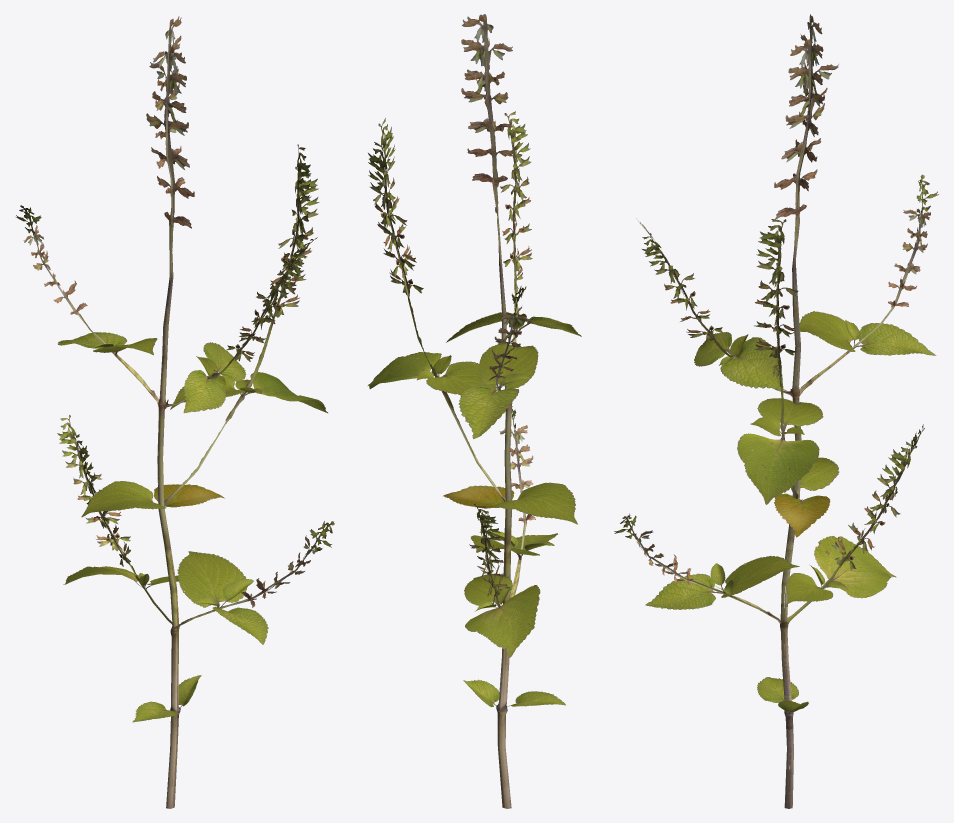
Rendered from shrub_03_03.glb.
3 renders of one model, left to right at view 1: azimuth 30°, elevation 25°; view 2: azimuth 150°, elevation 25°; view 3: azimuth 270°, elevation 25°, orthographic. The views are drawn at different scales.
Parts seen in each view (by area): view 1: shrub_03; view 2: shrub_03; view 3: shrub_03.
Boxes of the visible parts, x1,y1,x2,y2 form: shrub_03: (16, 16, 334, 808); shrub_03: (368, 14, 581, 808); shrub_03: (614, 14, 938, 808).
Size of the model in its own units: 0.0958 by 0.3044 by 0.1132.
Materials: 1 (1 with a texture image).
